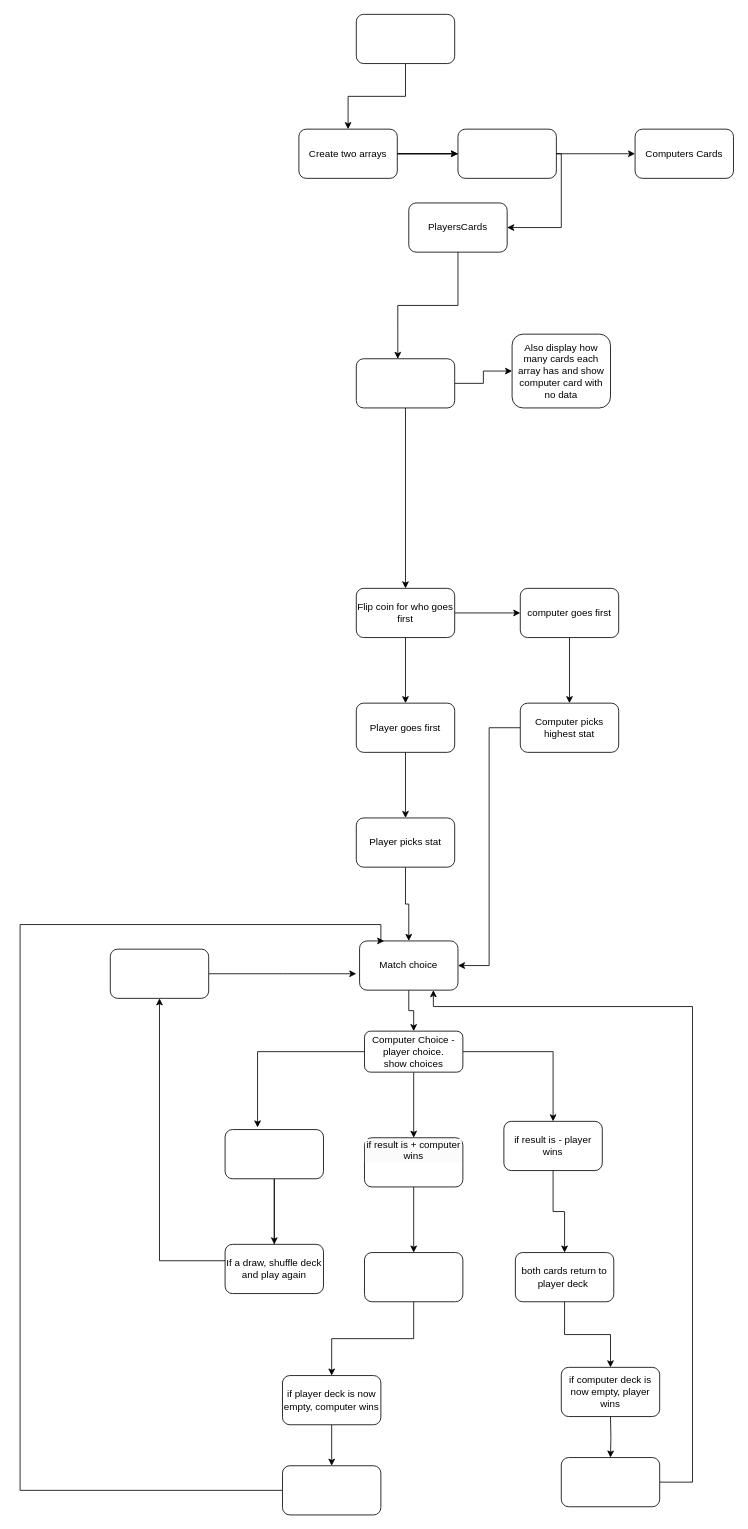
The diagram is 748 pixels wide and 1529 high, and some of its shapes have lost their labels. The centre of each missing label's shape, as x and y in pixels:
both cards return to computer deck: (413,1277)
Display 1st PlayerCard: (405,383)
DOM Loads: (405,39)
else play again, computer picks stat: (331,1490)
else play again, player picks stat: (610,1482)
If result is 0 draw: (273,1154)
Randomly assign cards to each array until all cards have been assigned: (506,153)
Swap player picking, new player picks stat: (159,973)
